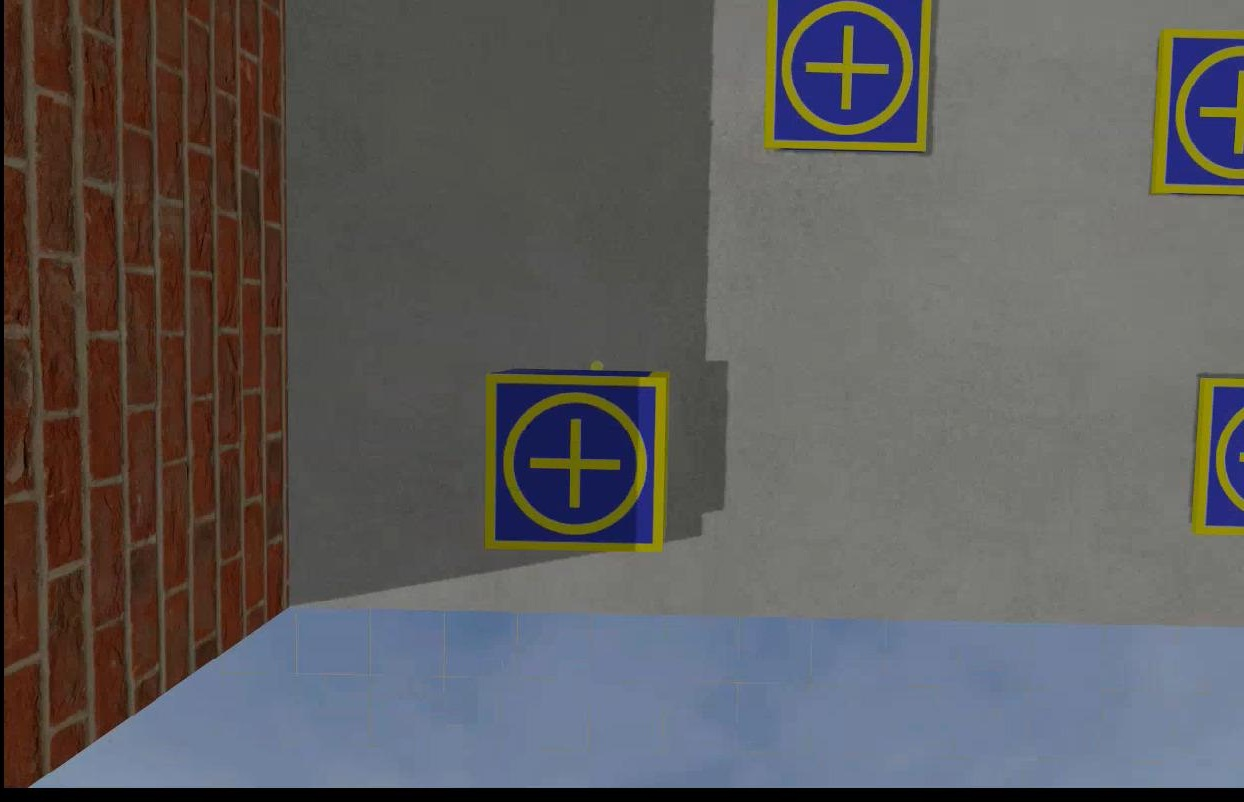small_base: (482, 373, 669, 555), (763, 1, 933, 150), (1147, 30, 1242, 198), (1188, 376, 1242, 540)
